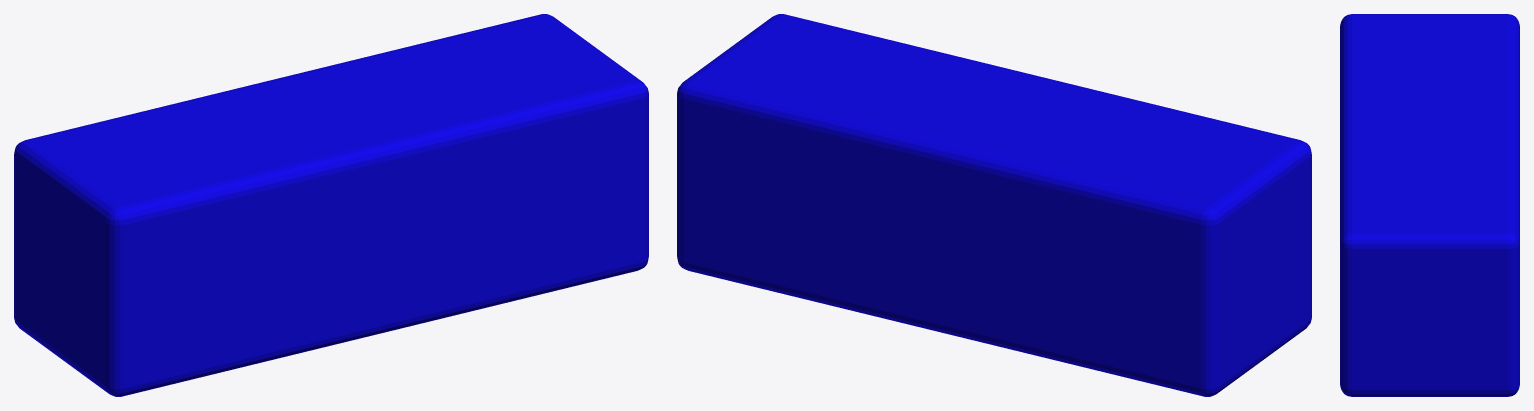
Rendered from Flatia.fbx.
The picture shows the model from 3 angles, left to right: view 1: azimuth 30°, elevation 25°; view 2: azimuth 150°, elevation 25°; view 3: azimuth 270°, elevation 25°; orthographic projection. The views are drawn at different scales.
Visible parts, largest first — view 1: Flatia; view 2: Flatia; view 3: Flatia.
Part boxes in pixels (x1=…): Flatia: x1=14, y1=14, x2=648, y2=396; Flatia: x1=677, y1=14, x2=1311, y2=396; Flatia: x1=1340, y1=14, x2=1519, y2=396.
Size of the model in its own units: 600 by 200 by 200.
